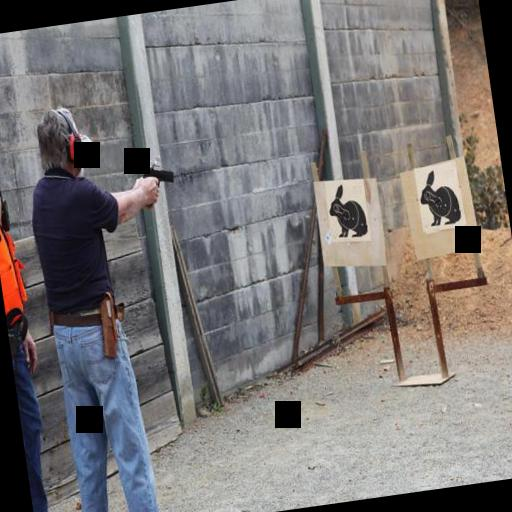Handgun: (134, 148, 176, 202)
